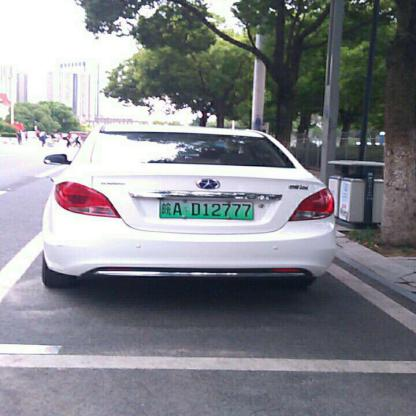lp: (160, 200, 254, 219)
